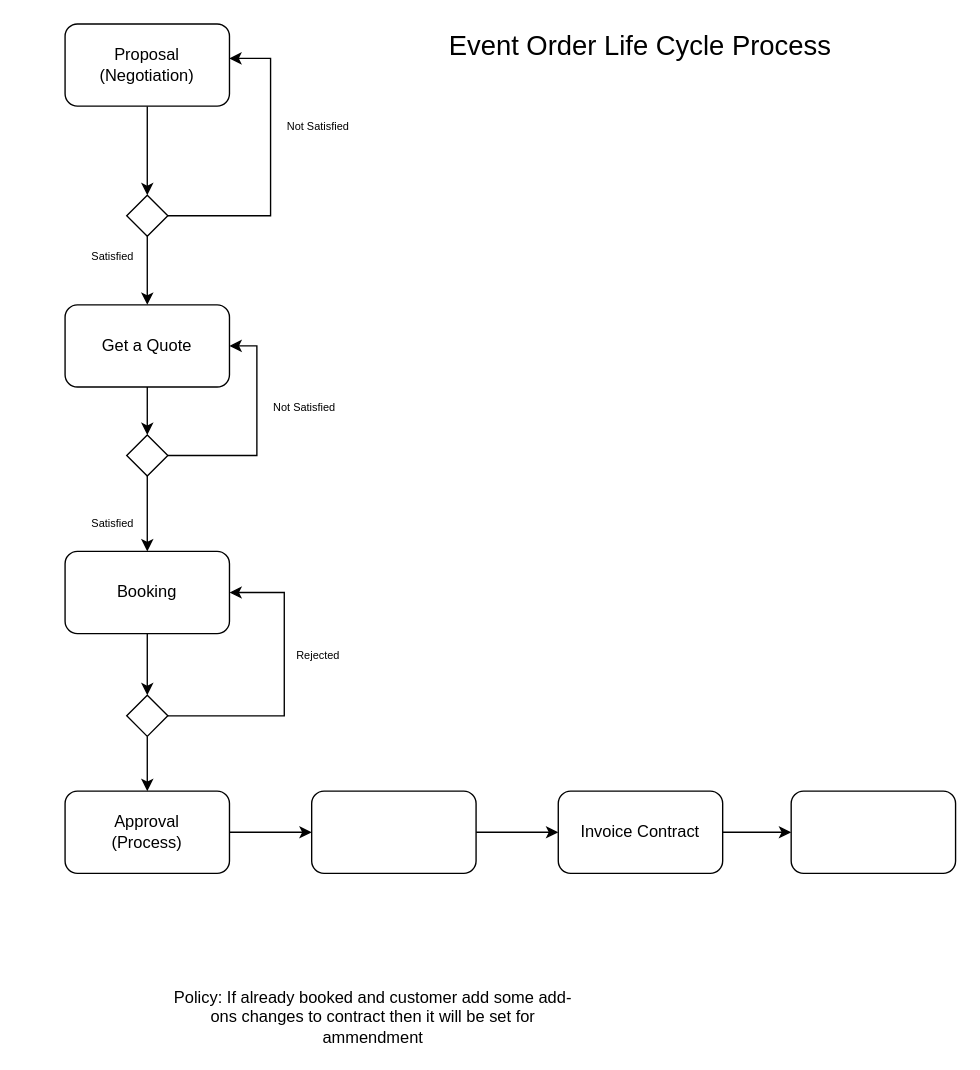
The diagram is 980 pixels wide and 1070 high, and some of its shapes have lost their labels. The shapes that lost their labels are listed below. From the top down, each one's box as (x1, y1, x2, y2) in pixels, then its label:
(310, 790, 476, 873): Contract Agreement
(790, 790, 956, 873): Event Service Order (ESO)
